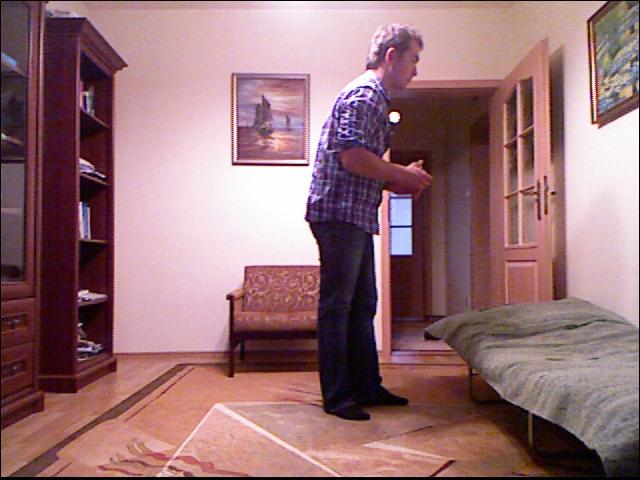standing: (303, 11, 444, 438)
